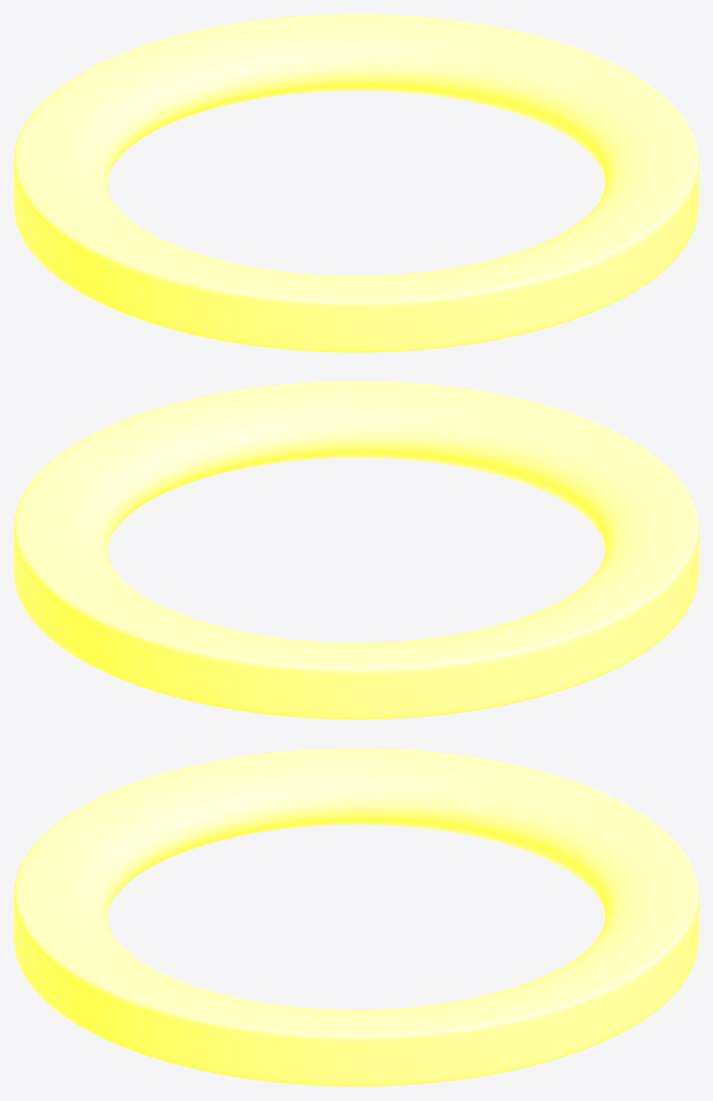
The model's file is halo.glb.
3 renders of one model, top to bottom at view 1: azimuth 30°, elevation 25°; view 2: azimuth 150°, elevation 25°; view 3: azimuth 270°, elevation 25°, orthographic.
Parts seen in each view (by area): view 1: Circle_0; view 2: Circle_0; view 3: Circle_0.
Part boxes in pixels (x1=…): Circle_0: x1=14, y1=14, x2=698, y2=352; Circle_0: x1=14, y1=381, x2=698, y2=719; Circle_0: x1=14, y1=748, x2=698, y2=1086.
Bounding box in the file's own units: 1.91 × 0.163 × 1.91.
